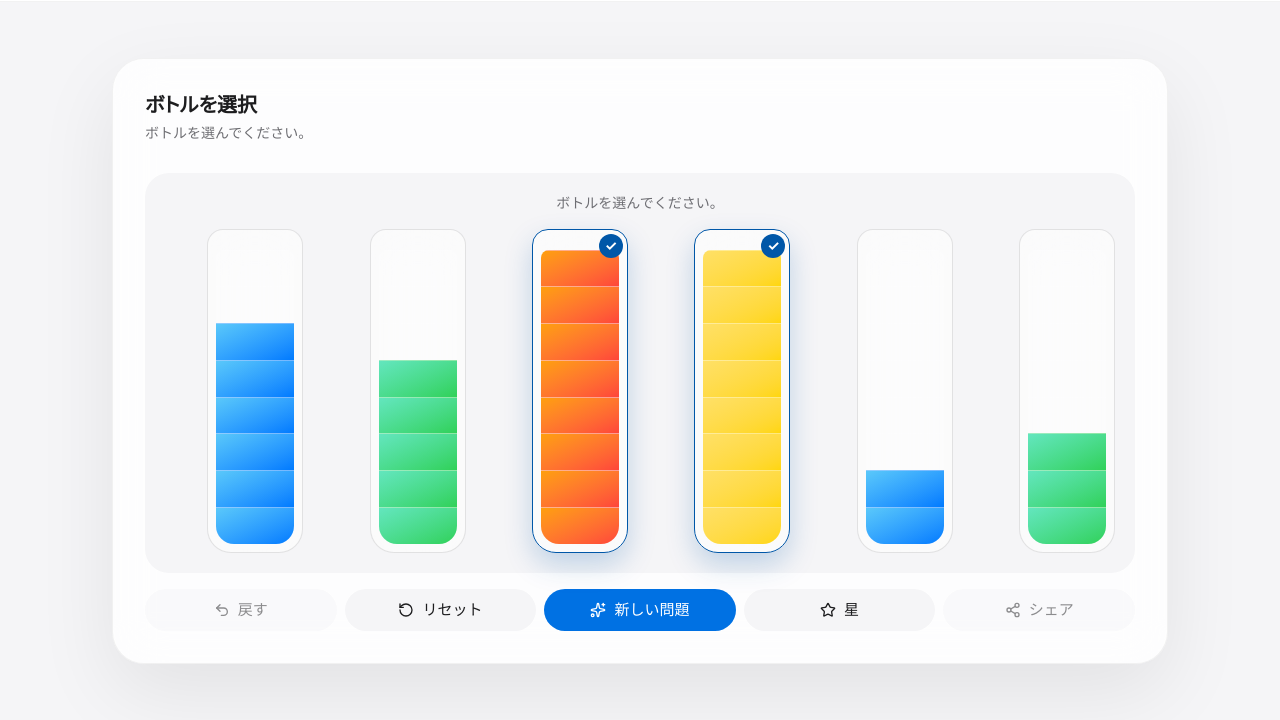
ColorSortPuzzlePage › confirms リセット after a move
(page scrolled)
Click the button named "ボトル 1" at (255, 391), box [207, 229, 303, 553]
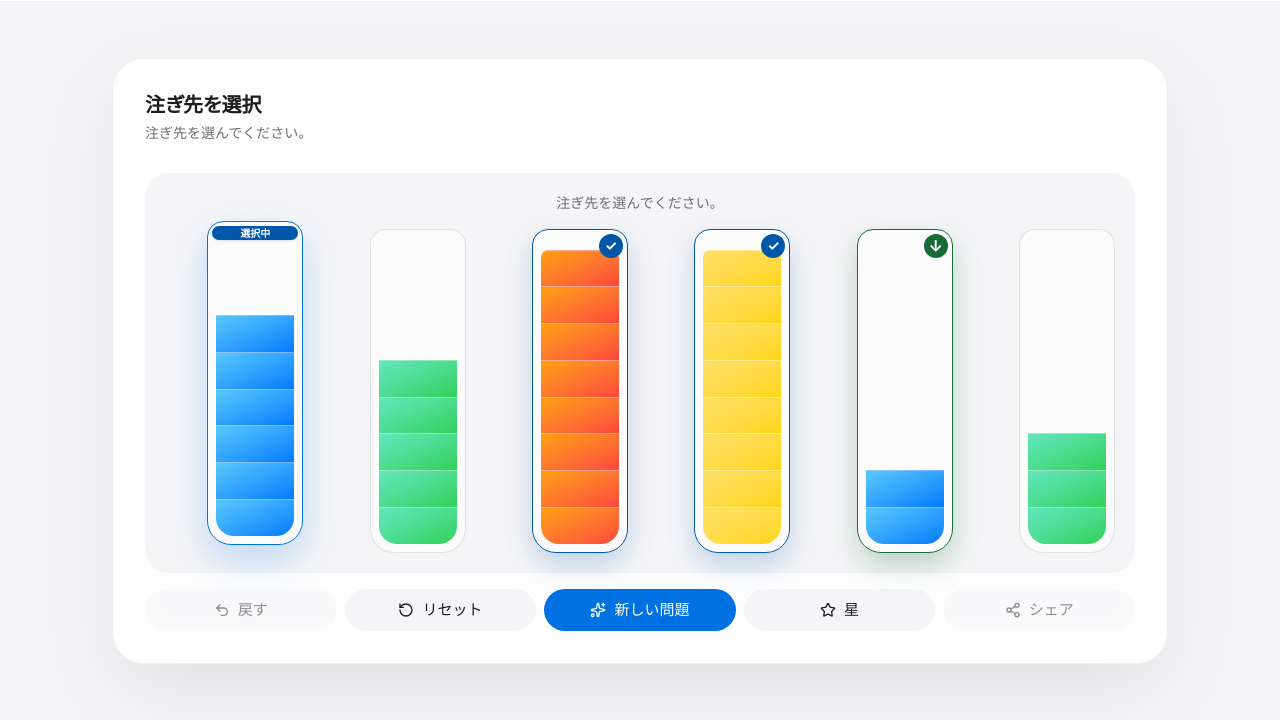
Click the button named "ボトル 5" at (905, 391), box [857, 229, 953, 553]
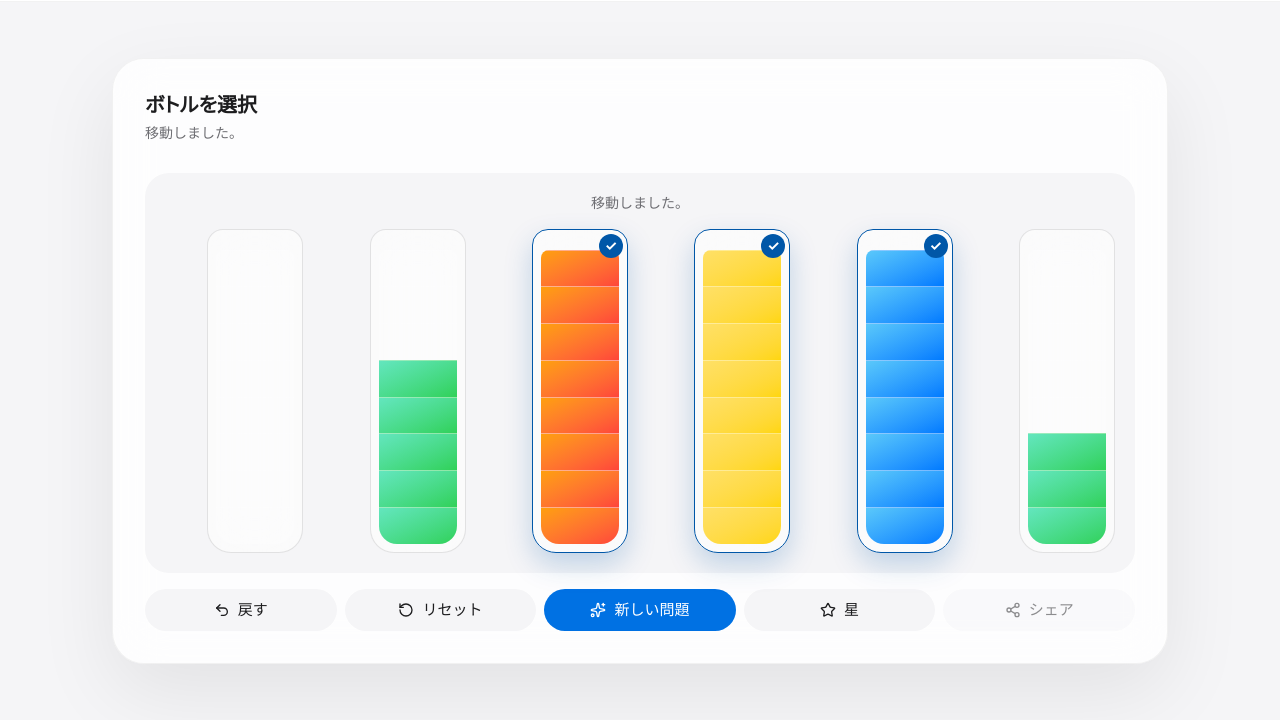
Click the 2nd button named "リセット" at (440, 610), box [345, 589, 536, 631]
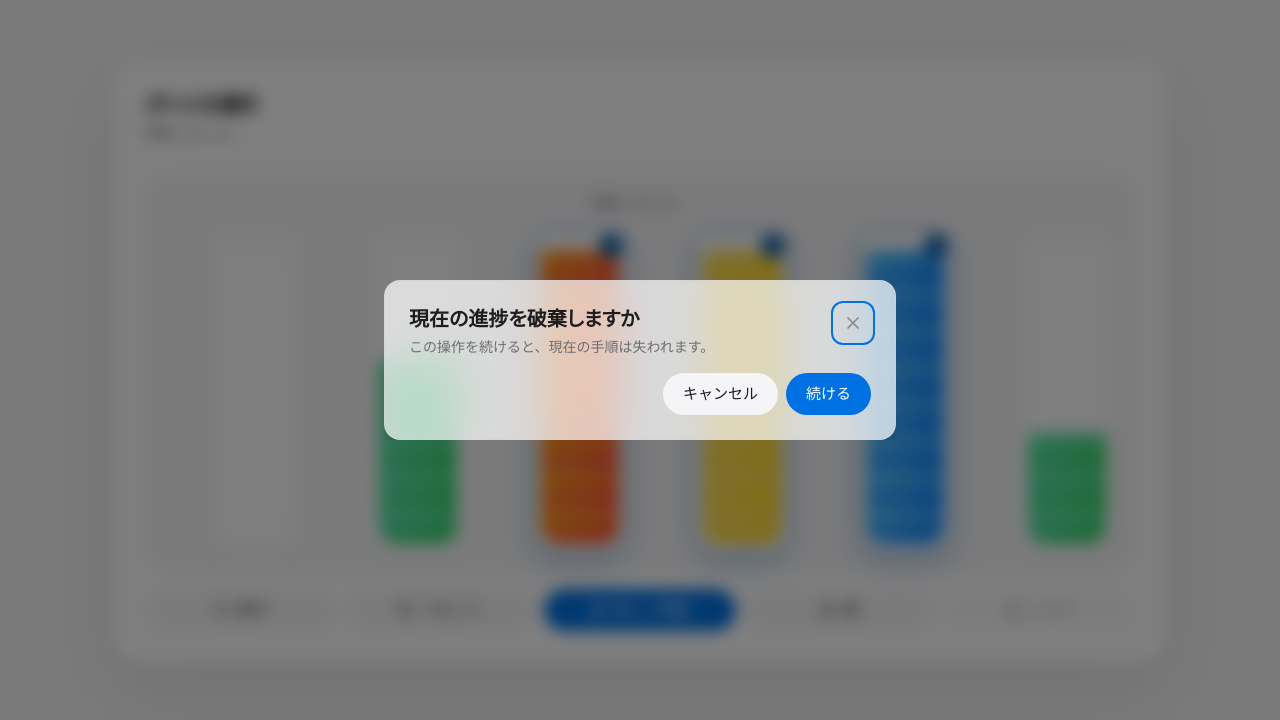
Expected: the dialog named "現在の進捗を破棄しますか" is shown, [384, 280, 896, 440]
